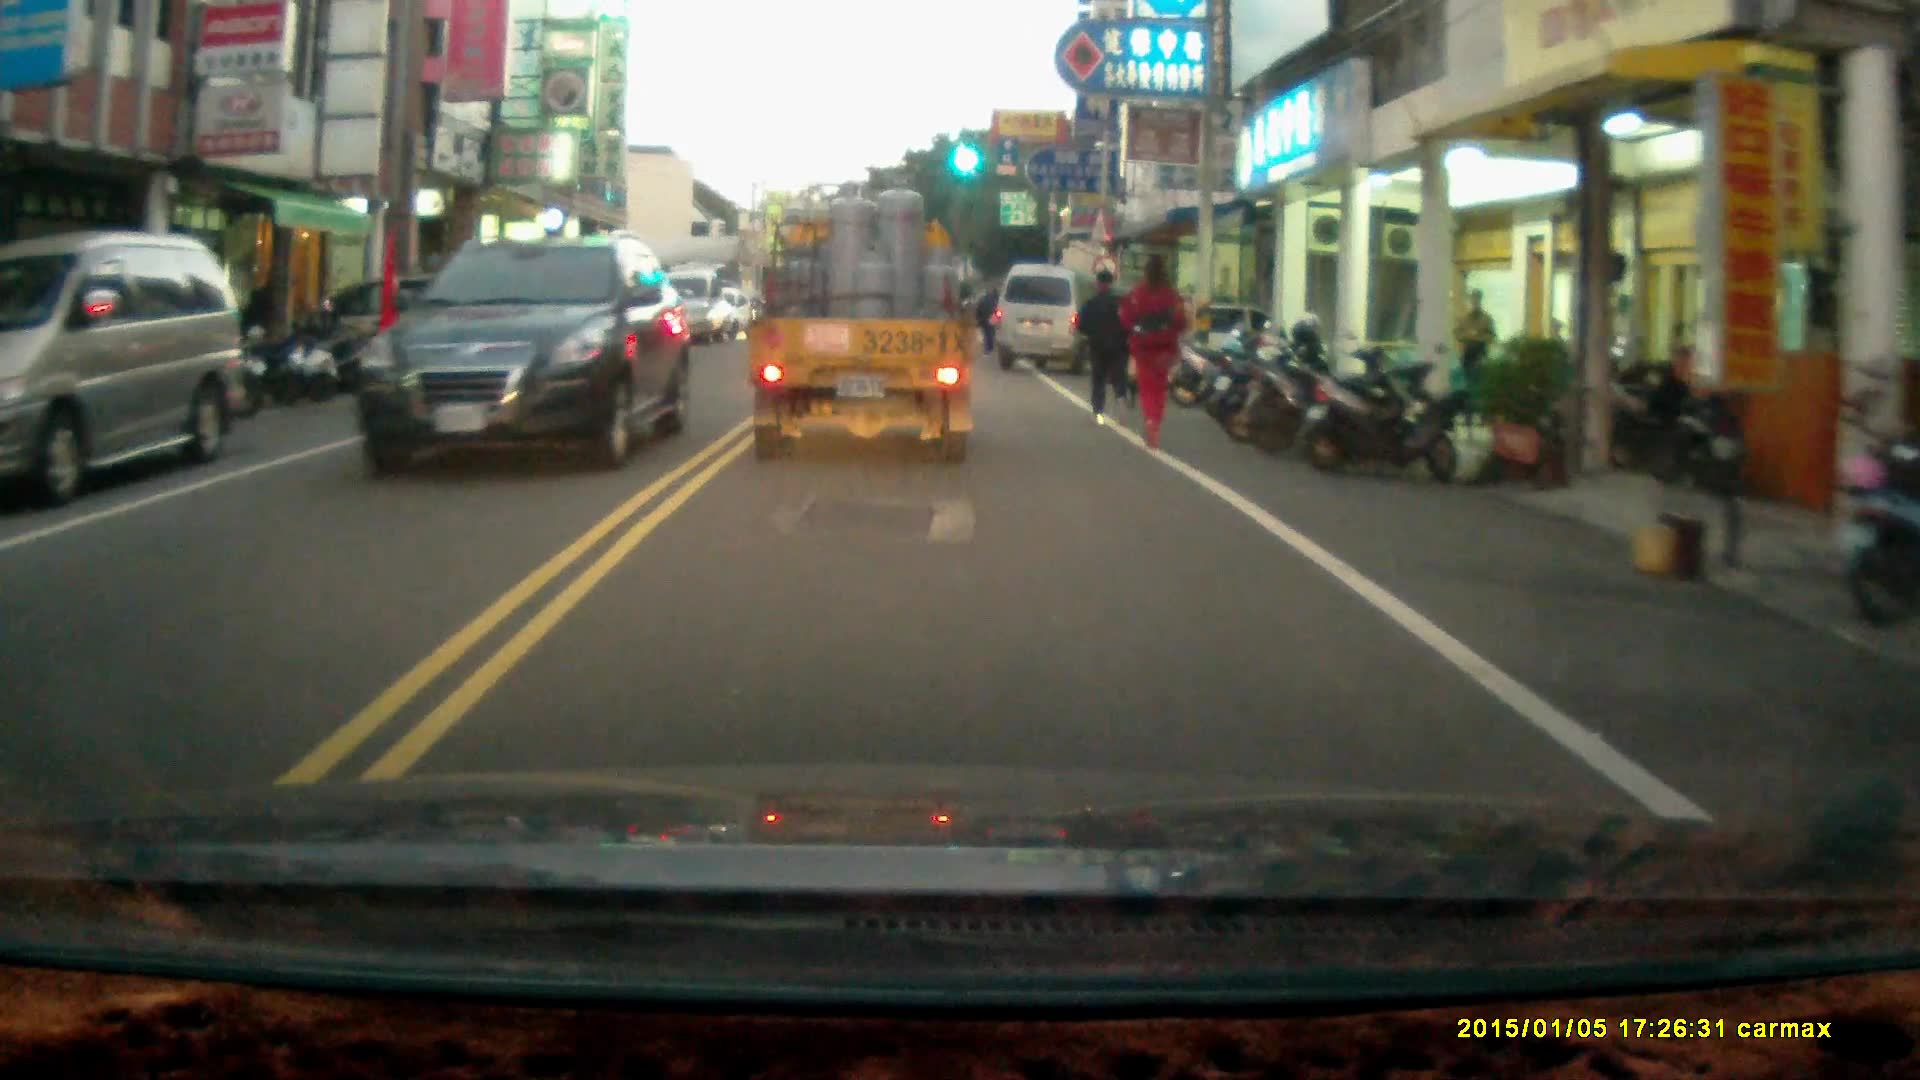pedestrian: (1123, 249, 1188, 447), (1078, 265, 1136, 430), (1451, 287, 1496, 412)
vehicle: (355, 232, 690, 472), (743, 173, 984, 472), (1, 237, 258, 496), (291, 289, 536, 385), (996, 266, 1110, 376)
